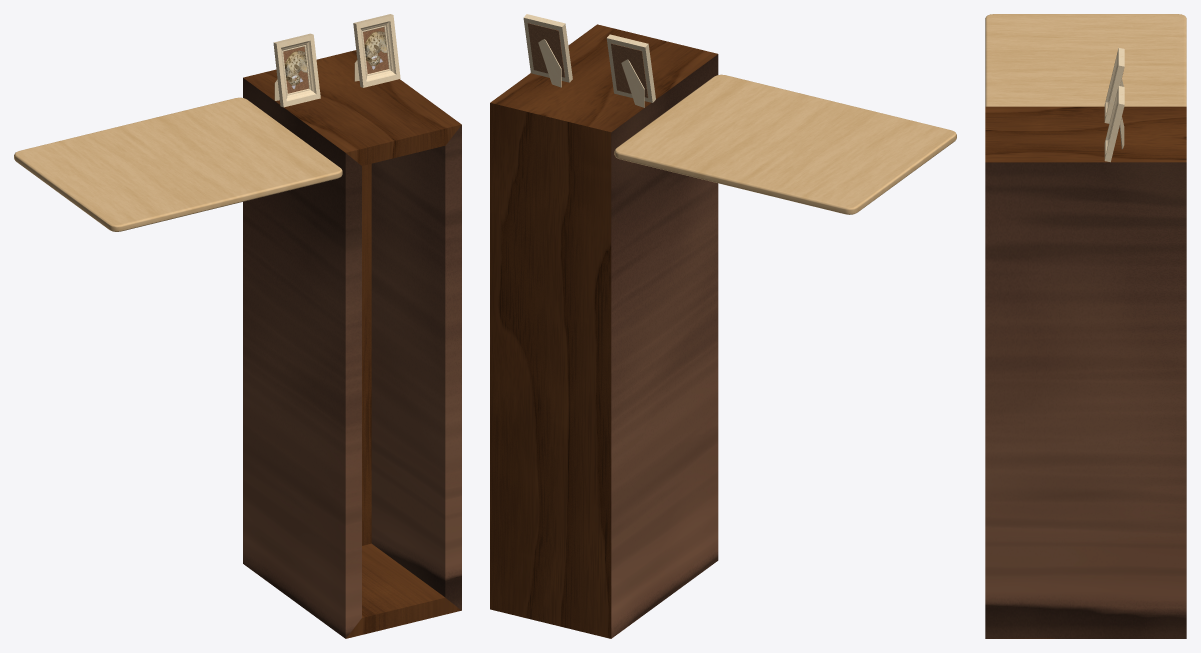
Rendered from stage_1.fbx.
3 views of the same model, side by side, from view 1: azimuth 30°, elevation 25°; view 2: azimuth 150°, elevation 25°; view 3: azimuth 270°, elevation 25° (orthographic). The views are drawn at different scales.
Parts seen in each view (by area): view 1: stage_1; view 2: stage_1; view 3: stage_1.
Boxes of the visible parts, x1,y1,x2,y2 form: stage_1: [14, 14, 461, 638]; stage_1: [490, 14, 956, 638]; stage_1: [985, 14, 1186, 638].
Size of the model in its own units: 450 by 674 by 230.
Materials: 4 (4 with a texture image).
